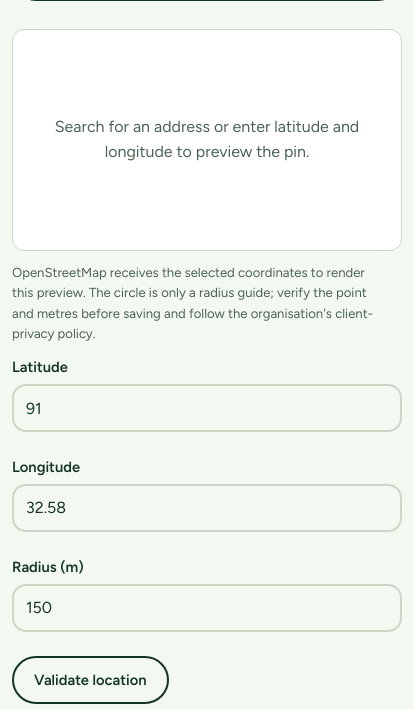
MapPicker location validation › rejects out-of-range latitude before reporting the location as validated
Click the button "Validate location" at (90,680), box [12,656,169,704]
(page scrolled)
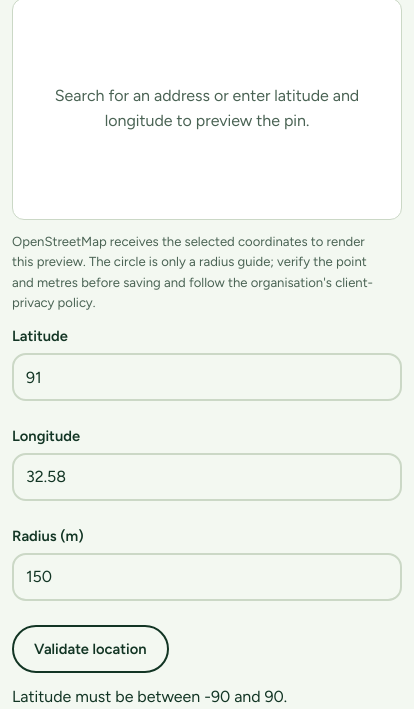
Check: the message reads "Latitude must be between -90 and 90.", box [12,687,287,706]
